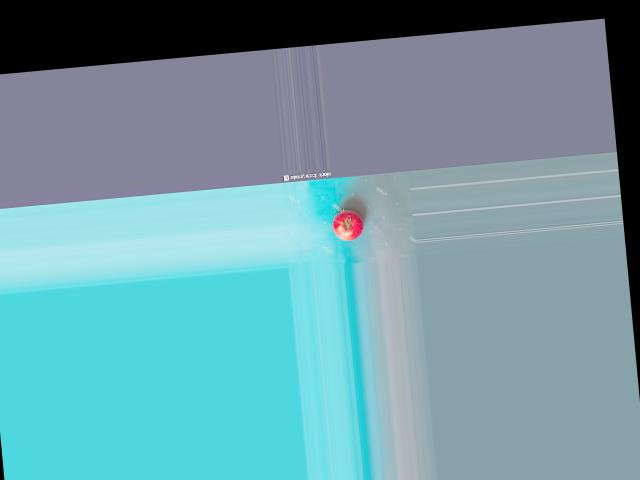tomato: (331, 208, 364, 241)
